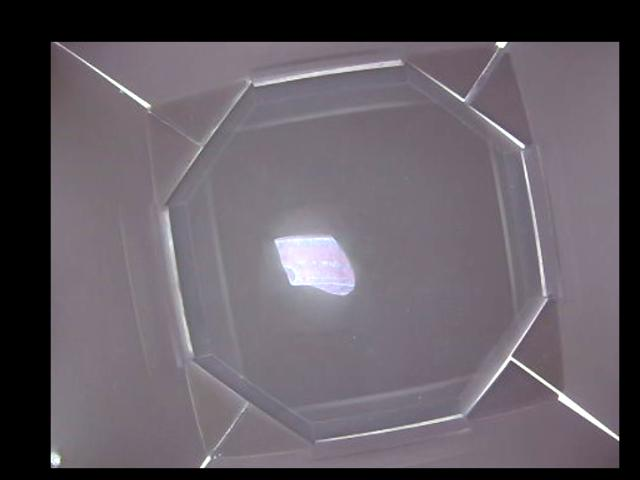China: (273, 228, 354, 300)
